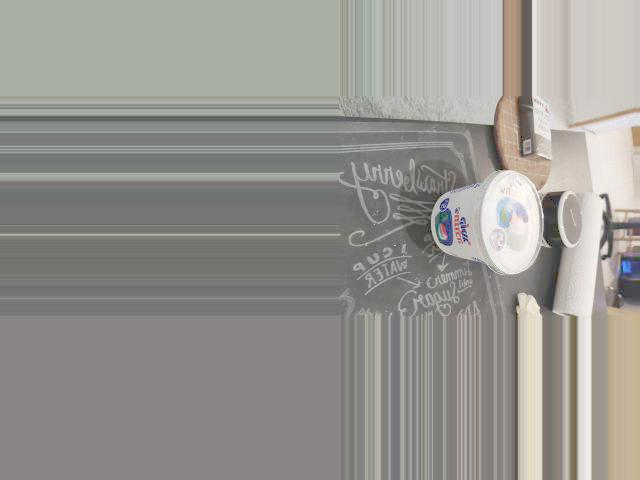cotage: (424, 175, 545, 274)
